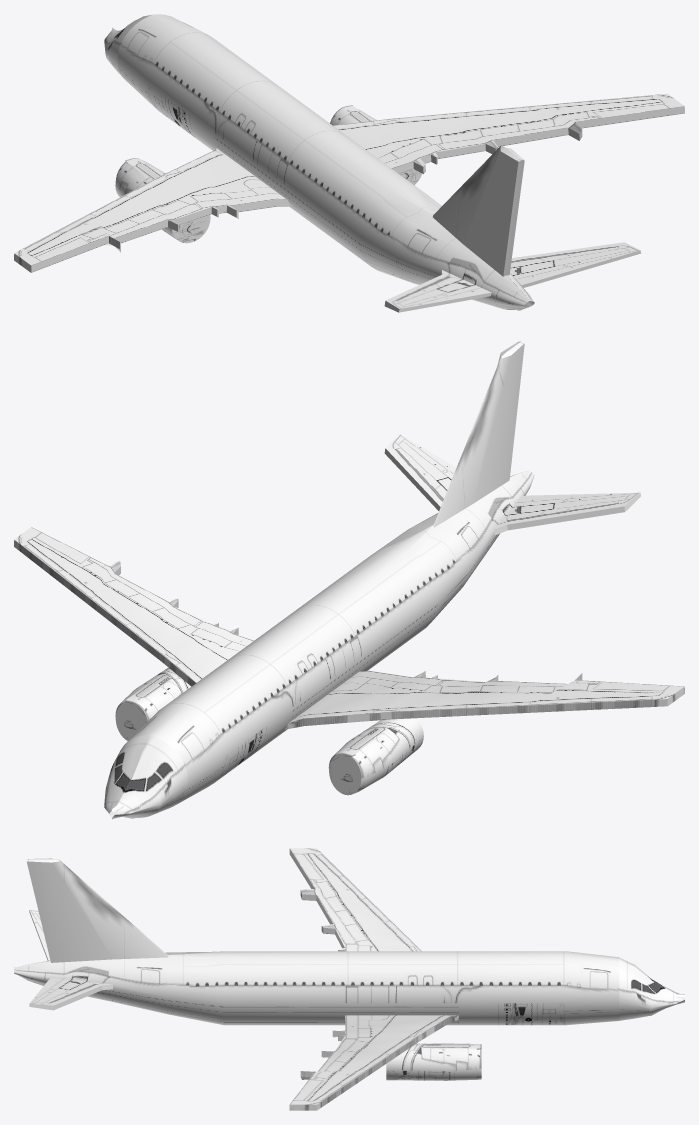
3 renders of one model, top to bottom at view 1: azimuth 30°, elevation 25°; view 2: azimuth 150°, elevation 25°; view 3: azimuth 270°, elevation 25°, orthographic. The views are drawn at different scales.
Parts seen in each view (by area): view 1: Cylinder; view 2: Cylinder; view 3: Cylinder.
Part boxes in pixels (left/top/right/bottom): Cylinder: left=14, top=14, right=684, bottom=312; Cylinder: left=14, top=341, right=684, bottom=819; Cylinder: left=14, top=848, right=684, bottom=1110.
Bounding box in the file's own units: 33.69 × 10.88 × 37.26.
Materials: 1 (1 with a texture image).
